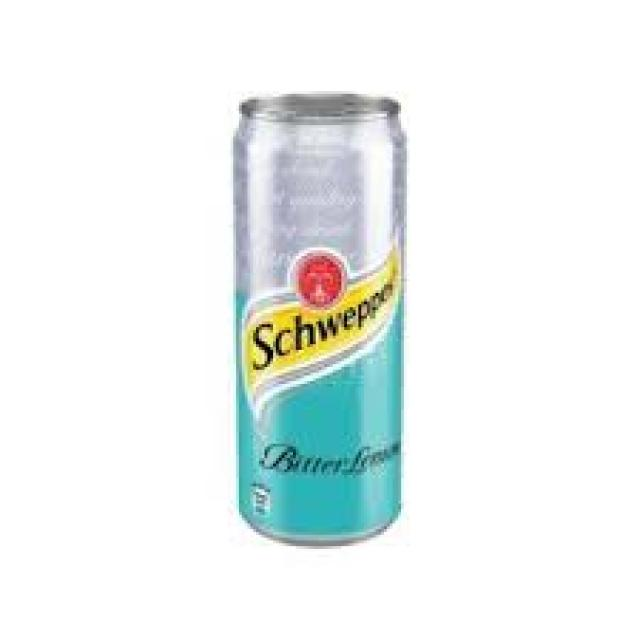Cans: (222, 82, 421, 549)
